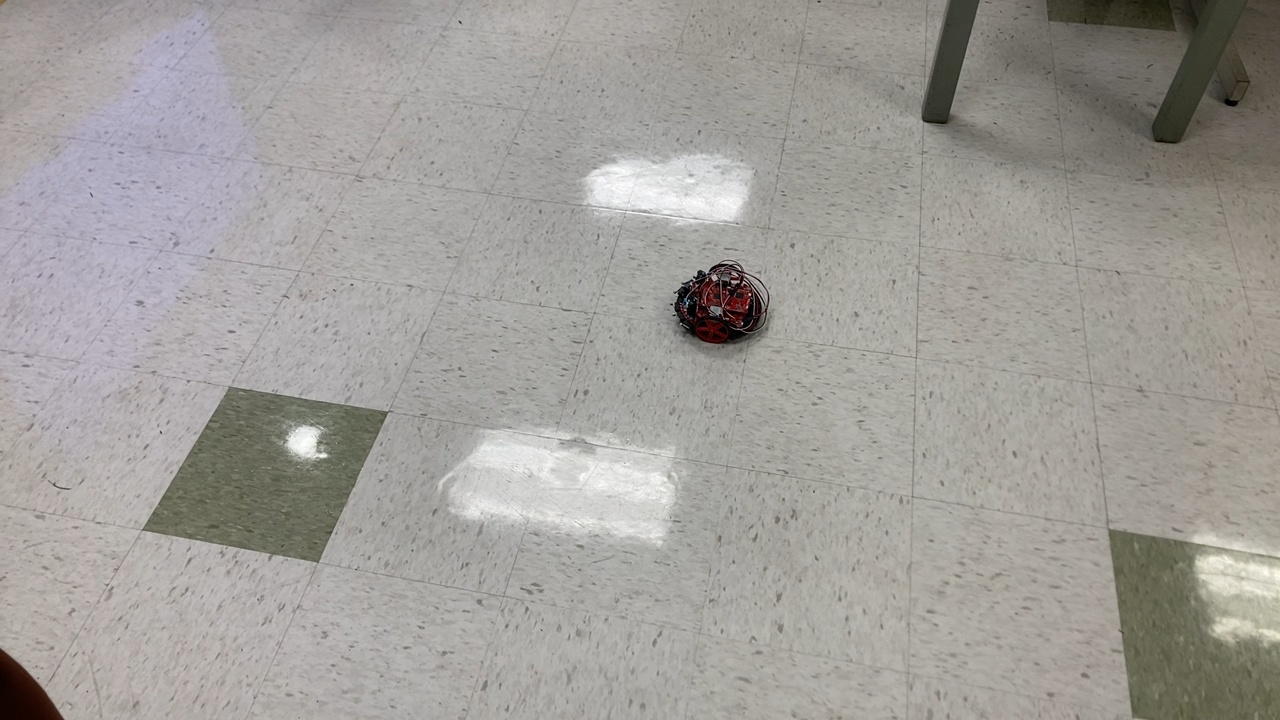robot: (667, 257, 772, 347)
